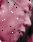without_mask: (1, 2, 33, 42)
